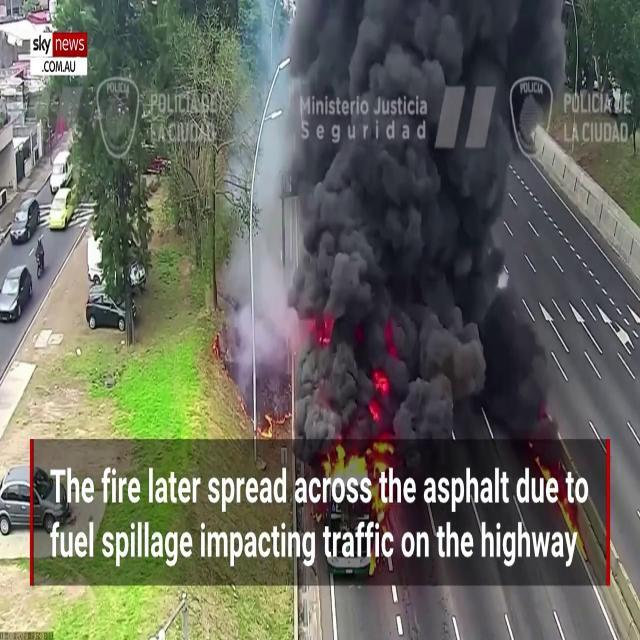Smoke: (233, 0, 561, 423)
